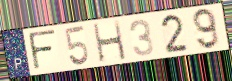2: (159, 12, 191, 56)
3: (129, 18, 155, 57)
5: (63, 24, 90, 66)
9: (192, 7, 221, 51)
F: (27, 28, 58, 72)
H: (91, 19, 129, 64)
